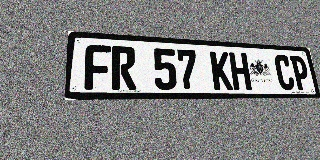5: (153, 48, 178, 90)
7: (175, 49, 199, 90)
C: (273, 55, 296, 90)
F: (84, 44, 111, 90)
H: (229, 52, 252, 90)
K: (210, 51, 233, 90)
P: (289, 56, 311, 90)
R: (112, 46, 136, 90)
